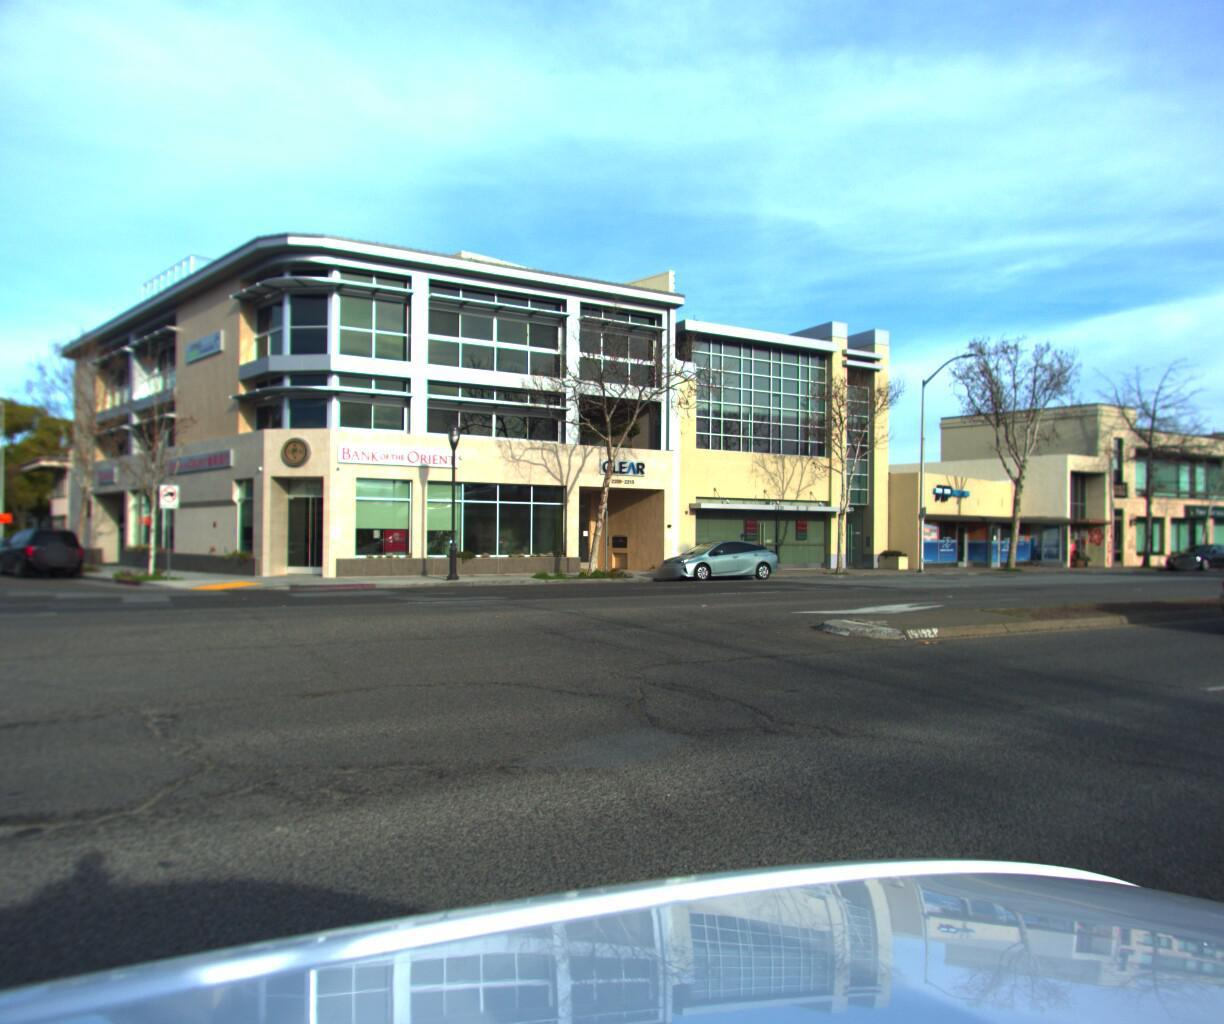car: (647, 537, 783, 581), (0, 524, 94, 581), (1198, 535, 1224, 652), (0, 531, 55, 574), (1156, 539, 1224, 569)
